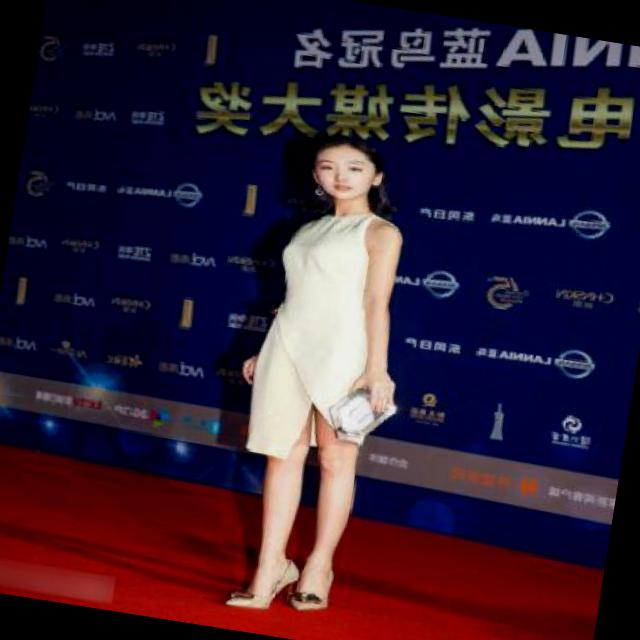Person: (184, 119, 453, 622)
